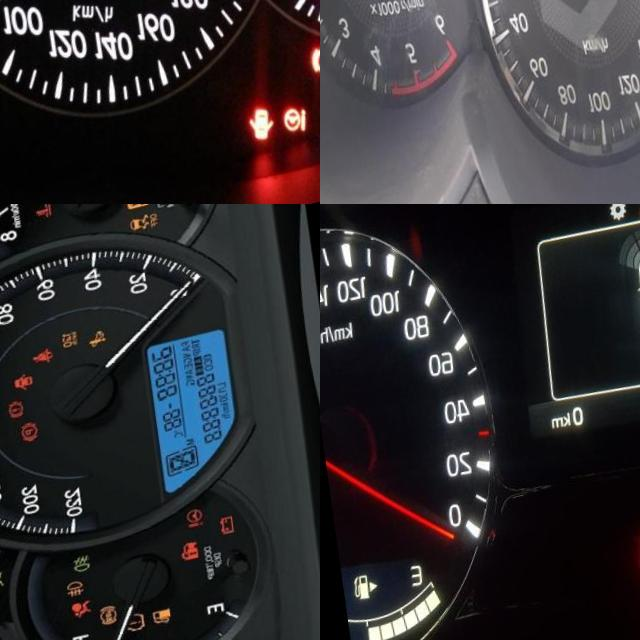Central Warning lamp: (632, 207, 640, 232)
Electronic Power Steering: (266, 128, 292, 160), (172, 529, 189, 551)
High Engine Coolant Temperature: (30, 217, 48, 236)
Seat Belt: (23, 362, 45, 380)
